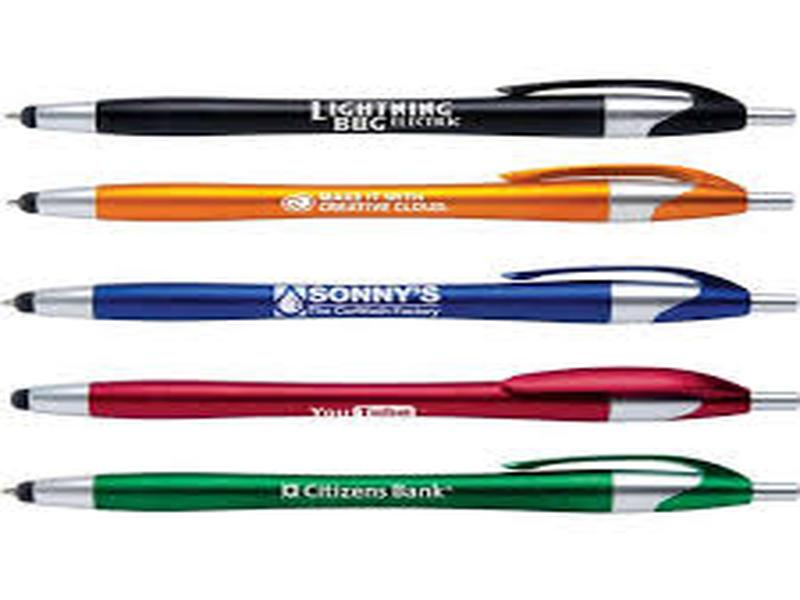qillqana: (1, 49, 800, 146), (4, 442, 800, 539), (7, 154, 797, 237), (1, 356, 800, 434), (5, 263, 800, 338)
